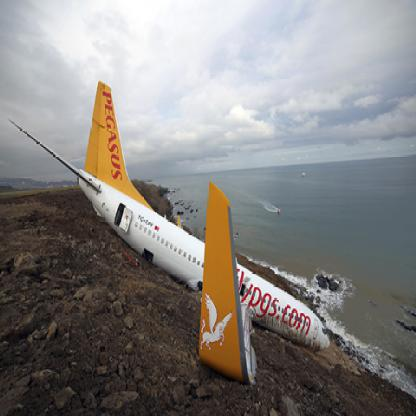CIV_Plane: (3, 75, 334, 384)
